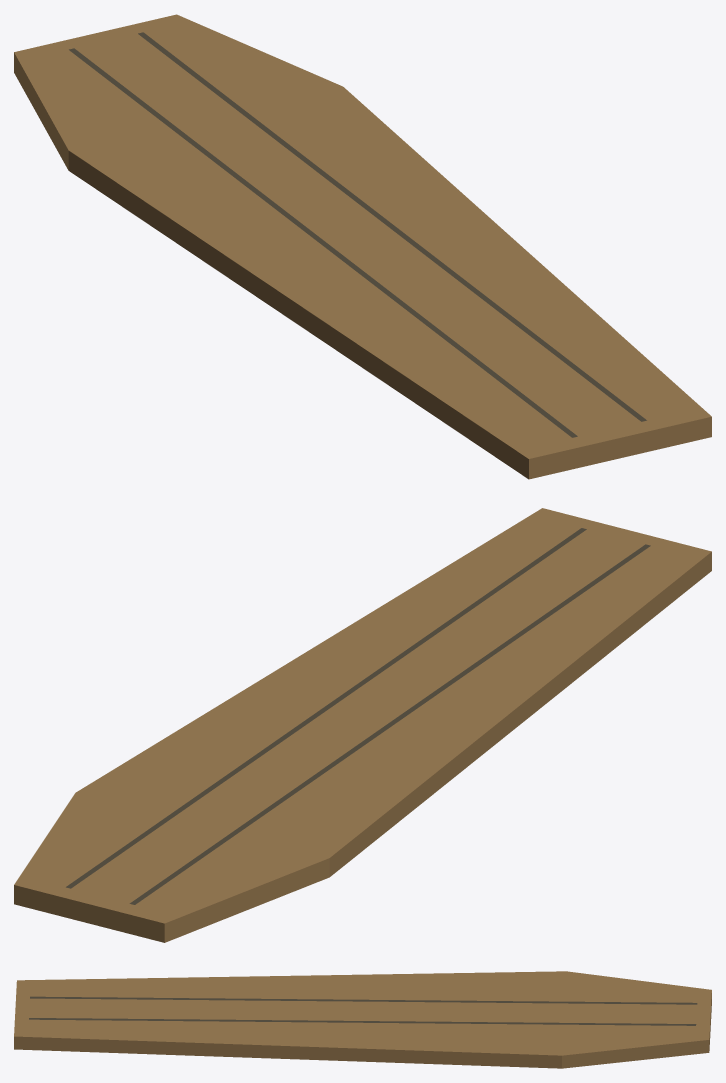
File: CoffinLid.fbx
3 views of the same model, one above another, from view 1: azimuth 30°, elevation 25°; view 2: azimuth 150°, elevation 25°; view 3: azimuth 270°, elevation 25° (orthographic). The views are drawn at different scales.
Visible parts, largest first — view 1: CoffinLid; view 2: CoffinLid; view 3: CoffinLid.
Part boxes in pixels (bbox=[...]): CoffinLid: bbox=[14, 14, 711, 479]; CoffinLid: bbox=[14, 508, 711, 942]; CoffinLid: bbox=[14, 971, 711, 1068].
Bounding box in the file's own units: 0.5561 × 0.041 × 1.95.
